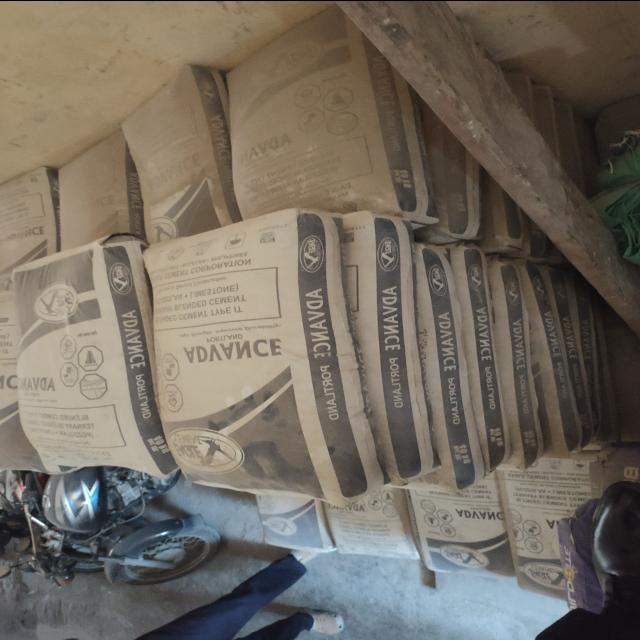Cement: (143, 221, 320, 504), (12, 246, 139, 471), (229, 20, 365, 225), (133, 73, 221, 243), (360, 226, 416, 473), (421, 252, 468, 491), (506, 463, 584, 593), (55, 135, 127, 253), (421, 477, 503, 577), (461, 248, 495, 475), (499, 253, 533, 480), (534, 264, 568, 465), (255, 459, 327, 549), (336, 465, 408, 555), (561, 269, 587, 459), (1, 172, 50, 265)
